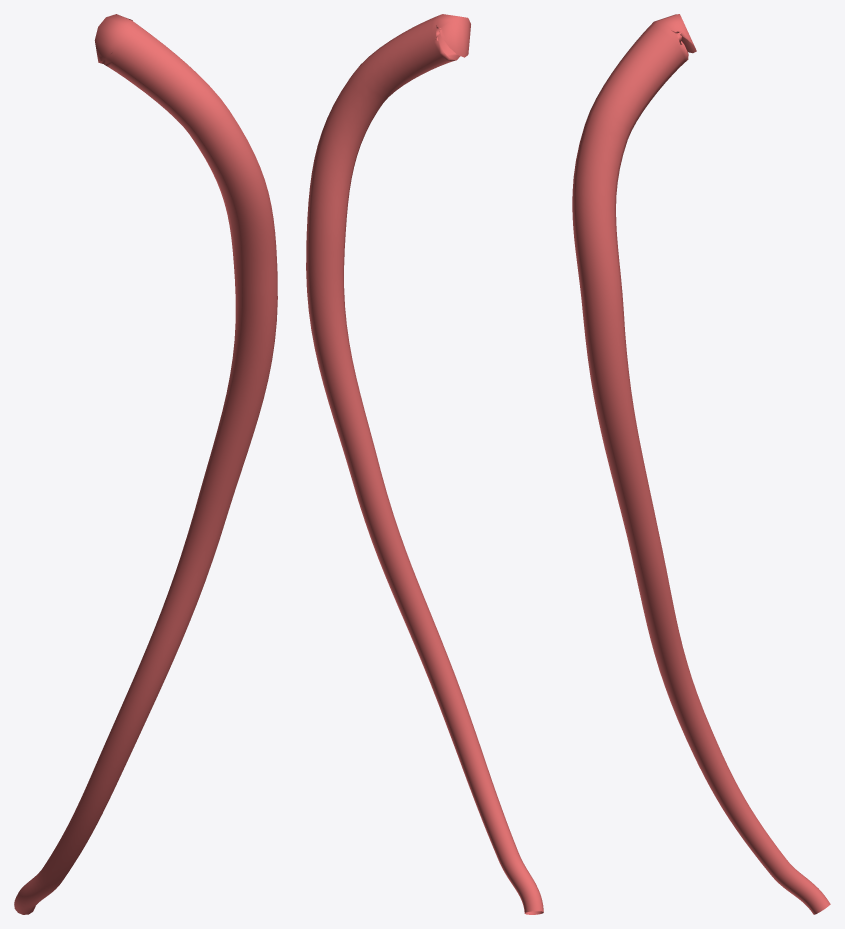
Rendered from Inferior_mesenteric_artery.glb.
The picture shows the model from 3 angles, left to right: view 1: azimuth 30°, elevation 25°; view 2: azimuth 210°, elevation 25°; view 3: azimuth 270°, elevation 25°; orthographic projection. The views are drawn at different scales.
Parts seen in each view (by area): view 1: Inferior_mesenteric_artery_BezierCurve.245; view 2: Inferior_mesenteric_artery_BezierCurve.245; view 3: Inferior_mesenteric_artery_BezierCurve.245.
Boxes of the visible parts, box(x1,y1,x2,y2) form: Inferior_mesenteric_artery_BezierCurve.245: box(14, 14, 277, 914); Inferior_mesenteric_artery_BezierCurve.245: box(306, 14, 543, 914); Inferior_mesenteric_artery_BezierCurve.245: box(572, 14, 830, 914).
Bounding box in the file's own units: 0.0143 × 0.0874 × 0.0226.
